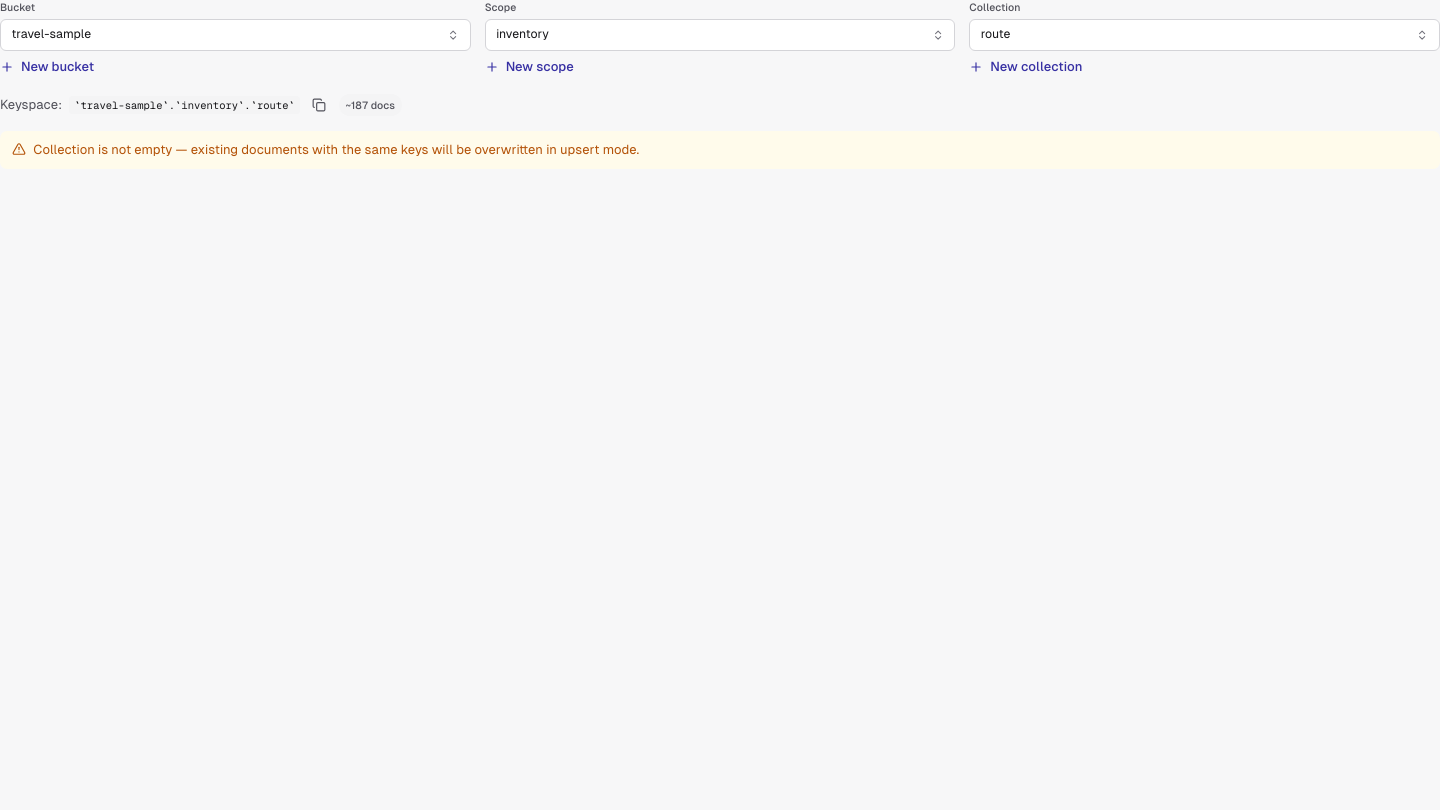
Test case: KeyspacePicker › AC4: shows overwrite notice when count > 0
The image size is (1440, 810).
expect the text "~187 docs" is shown: met, box [338, 94, 402, 116]
expect the text "Collection is not empty" is shown: met, box [33, 142, 639, 157]
Click the dropdown named "Collection": (996, 34) [969, 19, 1439, 51]
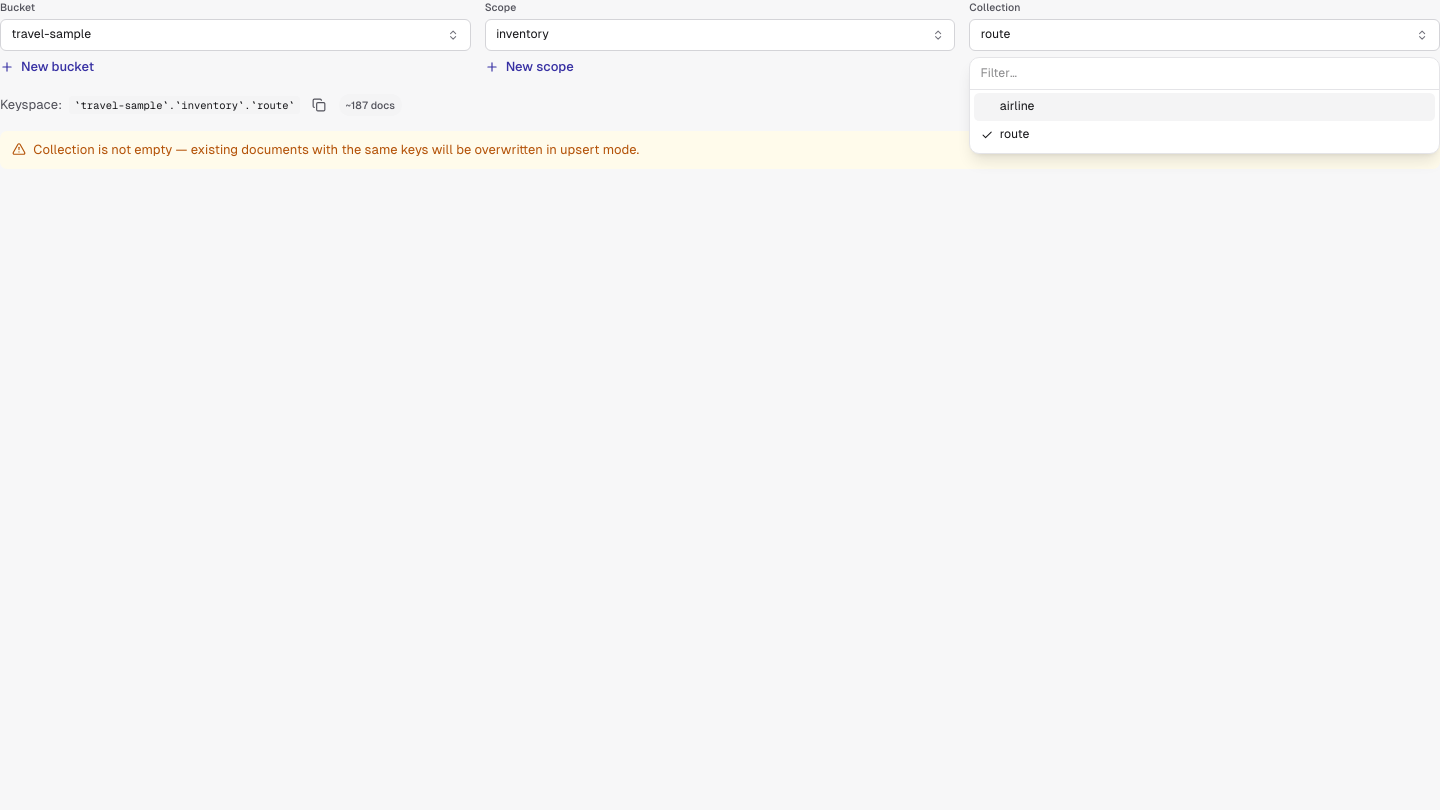
Click the option "airline": (1017, 106) [974, 93, 1435, 121]
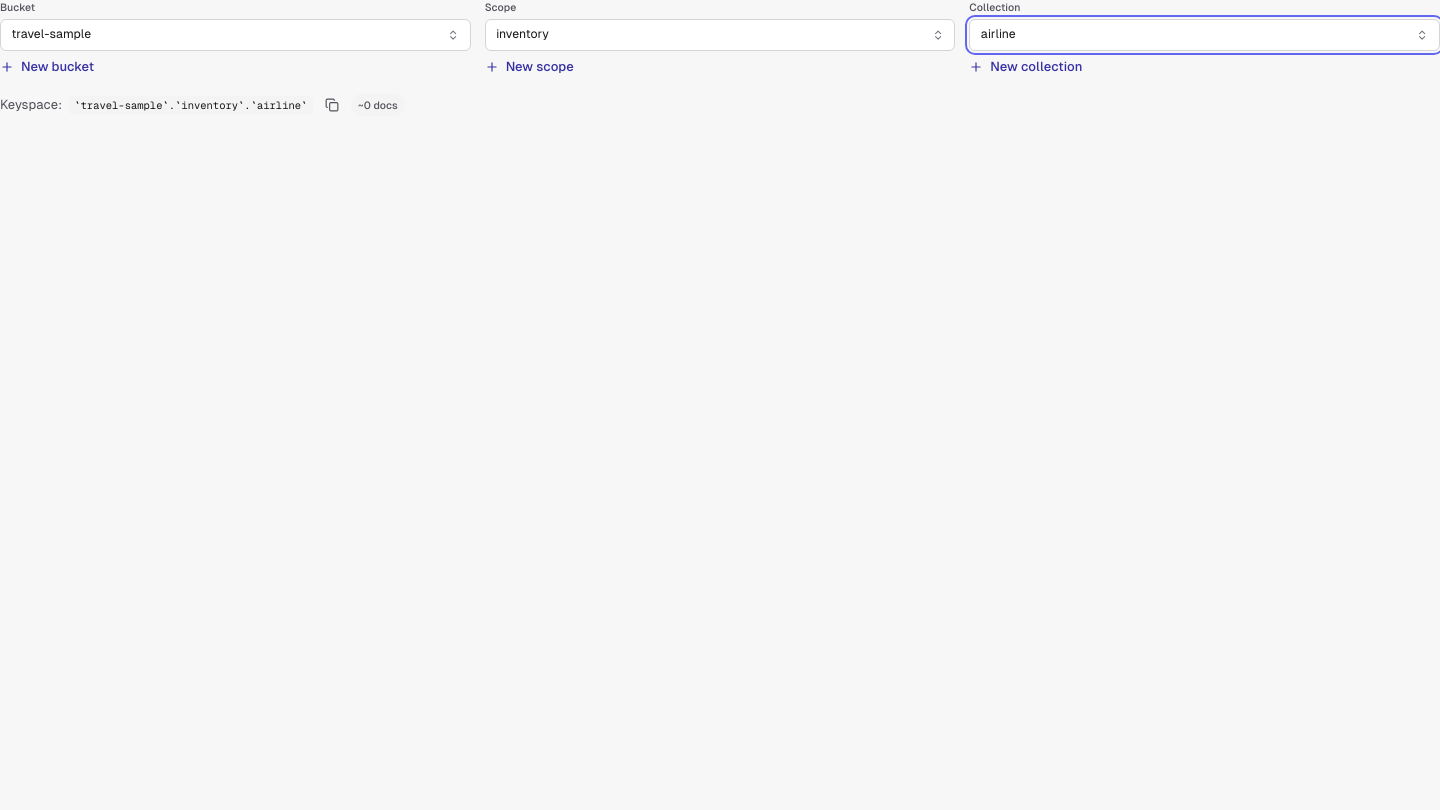
expect the text "~0 docs" is shown: met, box [351, 94, 405, 116]
